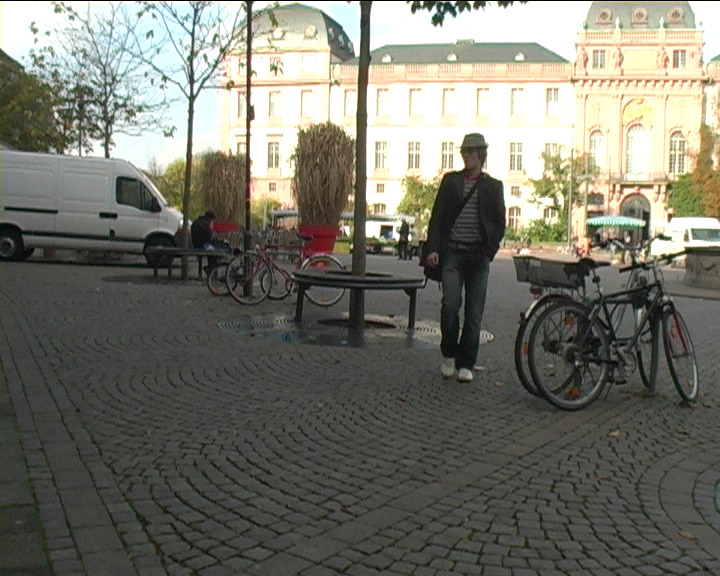deflection: (437, 130, 509, 221)
